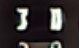COMP: (11, 3, 69, 35)
GAP: (16, 19, 63, 48)
